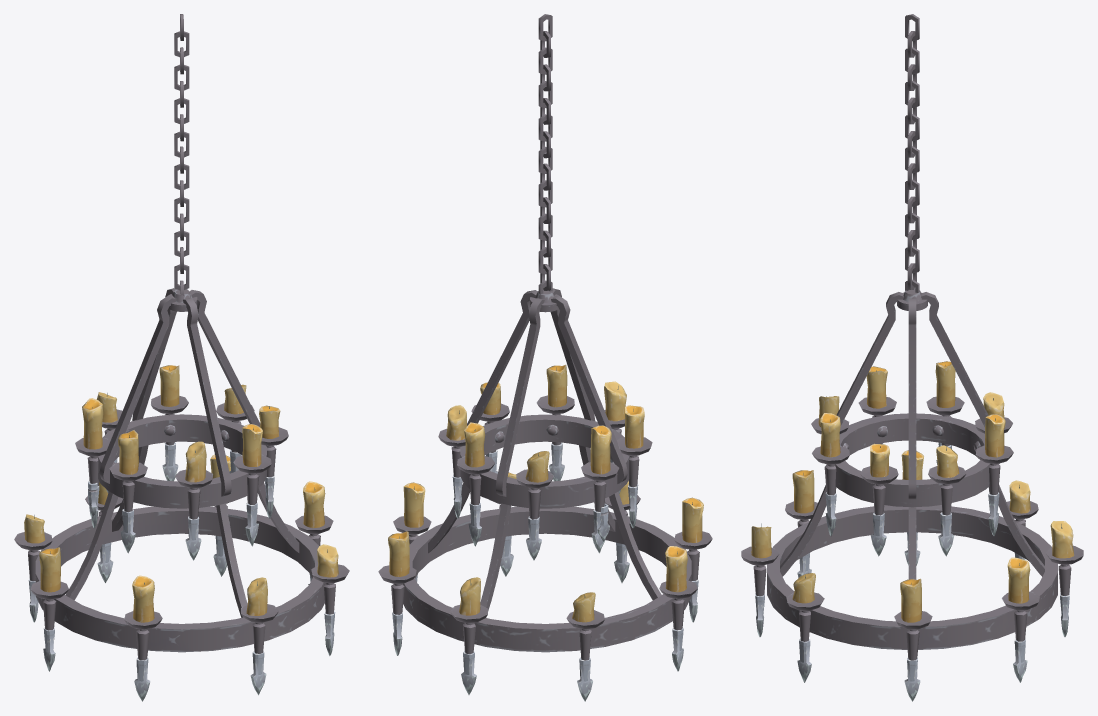
Rendered from Chandelier_Large.fbx.
The picture shows the model from 3 angles, left to right: view 1: azimuth 30°, elevation 25°; view 2: azimuth 150°, elevation 25°; view 3: azimuth 270°, elevation 25°; orthographic projection.
Parts seen in each view (by area): view 1: Chandelier_Large; view 2: Chandelier_Large; view 3: Chandelier_Large.
Boxes of the visible parts, left/top/right/bottom form: Chandelier_Large: left=14, top=14, right=349, bottom=701; Chandelier_Large: left=378, top=14, right=712, bottom=701; Chandelier_Large: left=741, top=14, right=1083, bottom=701.
Size of the model in its own units: 130 by 262 by 130.
